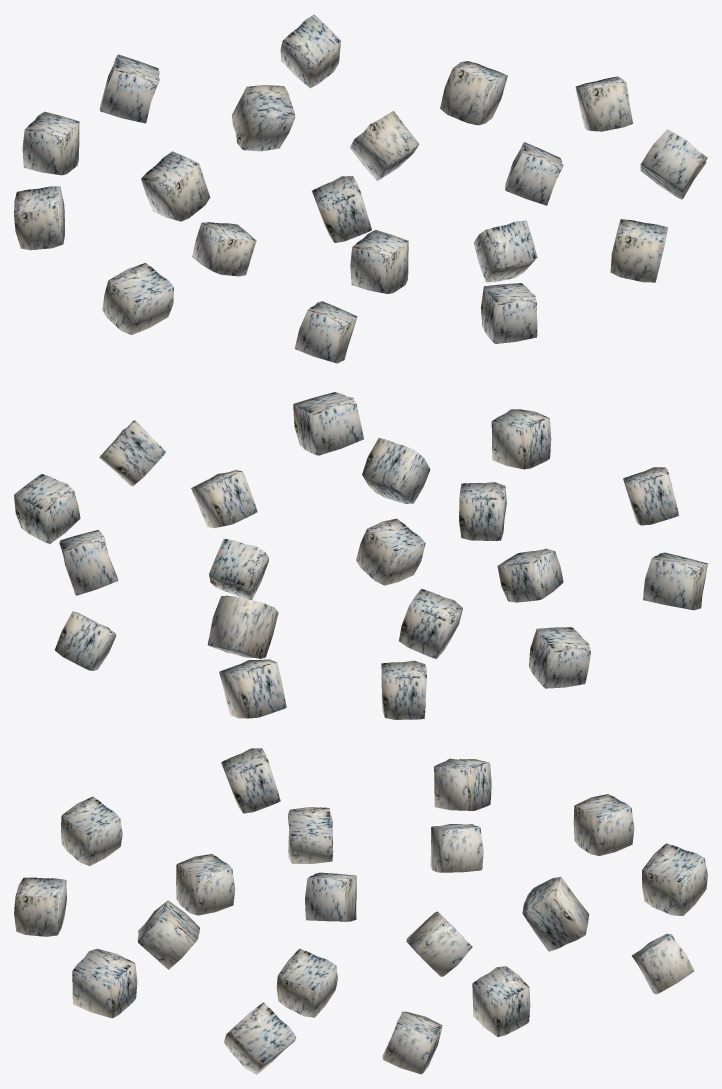
Rendered from blue_cheese_topping.fbx.
The picture shows the model from 3 angles, top to bottom: view 1: azimuth 30°, elevation 25°; view 2: azimuth 150°, elevation 25°; view 3: azimuth 270°, elevation 25°; orthographic projection. The views are drawn at different scales.
Parts seen in each view (by area): view 1: blue_cheese.001, blue_cheese.012, blue_cheese.010, blue_cheese.007, blue_cheese.011, blue_cheese.008, blue_cheese.003, blue_cheese.006, blue_cheese, blue_cheese.014, blue_cheese.016, blue_cheese.004 (+7 smaller); view 2: blue_cheese.004, blue_cheese.012, blue_cheese.017, blue_cheese.009, blue_cheese, blue_cheese.016, blue_cheese.014, blue_cheese.003, blue_cheese.010, blue_cheese.001, blue_cheese.018, blue_cheese.013 (+7 smaller); view 3: blue_cheese.016, blue_cheese.004, blue_cheese.012, blue_cheese.007, blue_cheese.002, blue_cheese.008, blue_cheese.013, blue_cheese.011, blue_cheese.005, blue_cheese.003, blue_cheese, blue_cheese.014 (+7 smaller).
Part boxes in pixels (box(x1,y1,x2,y2)): blue_cheese.001: box(102, 263, 173, 334); blue_cheese.012: box(231, 85, 295, 151); blue_cheese.010: box(141, 151, 210, 221); blue_cheese.007: box(440, 61, 507, 125); blue_cheese.011: box(350, 230, 408, 293); blue_cheese.008: box(22, 111, 79, 175); blue_cheese.003: box(481, 283, 537, 343); blue_cheese.006: box(280, 14, 341, 88); blue_cheese: box(14, 186, 64, 250); blue_cheese.014: box(473, 220, 537, 282); blue_cheese.016: box(99, 54, 159, 123); blue_cheese.004: box(610, 219, 667, 282); blue_cheese.004: box(293, 392, 363, 455); blue_cheese.012: box(207, 595, 278, 658); blue_cheese.017: box(356, 518, 425, 585); blue_cheese.009: box(14, 474, 80, 543); blue_cheese: box(529, 627, 590, 688); blue_cheese.016: box(219, 659, 286, 718); blue_cheese.014: box(362, 438, 430, 503); blue_cheese.003: box(491, 409, 551, 469); blue_cheese.010: box(399, 588, 462, 658); blue_cheese.001: box(643, 552, 707, 610); blue_cheese.018: box(497, 548, 563, 602); blue_cheese.013: box(191, 469, 257, 528); blue_cheese.016: box(642, 843, 707, 915); blue_cheese.004: box(72, 948, 137, 1018); blue_cheese.012: box(522, 876, 589, 951); blue_cheese.007: box(472, 966, 530, 1036); blue_cheese.002: box(61, 796, 122, 865); blue_cheese.008: box(573, 794, 634, 855); blue_cheese.013: box(276, 948, 337, 1017); blue_cheese.011: box(176, 854, 235, 915); blue_cheese.005: box(224, 1002, 296, 1074); blue_cheese.003: box(14, 877, 66, 936); blue_cheese: box(434, 758, 491, 810); blue_cheese.014: box(137, 900, 199, 969).
Bounding box in the file's own units: 52 × 5.81 × 53.38.
Materials: 19 (19 with a texture image).
